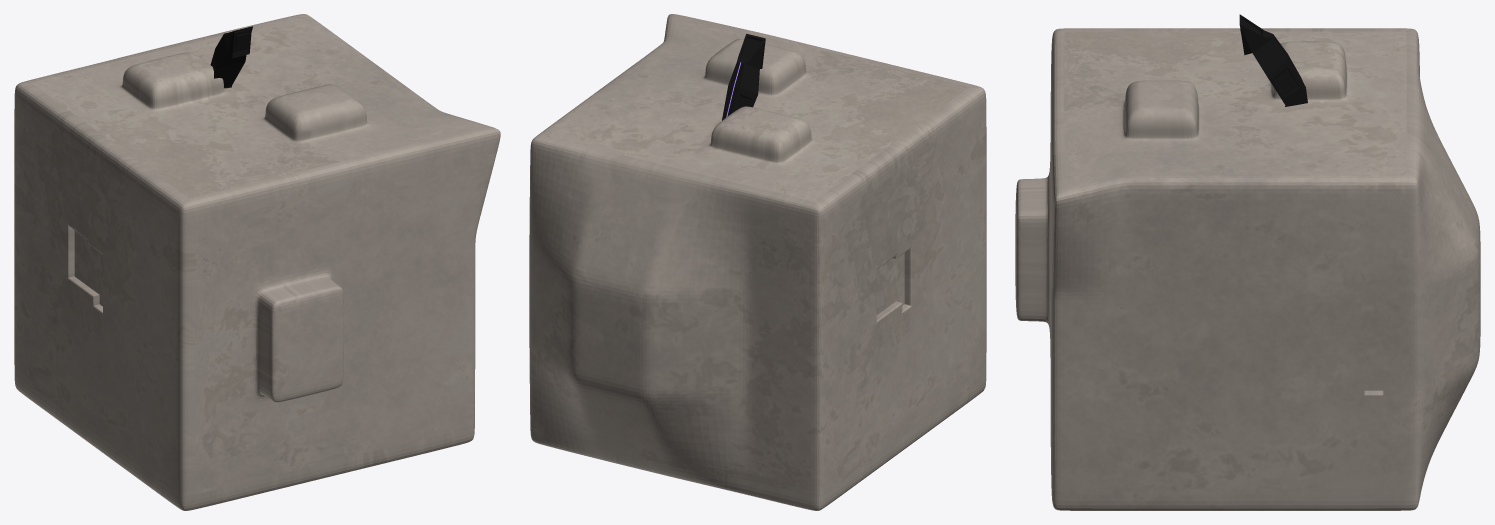
The model's file is RandomShape2.fbx.
3 renders of one model, left to right at view 1: azimuth 30°, elevation 25°; view 2: azimuth 150°, elevation 25°; view 3: azimuth 270°, elevation 25°, orthographic. The views are drawn at different scales.
Visible parts, largest first — view 1: Cube, Kostka; view 2: Cube, Kostka; view 3: Cube, Kostka.
Boxes of the visible parts, left/top/right/bottom form: Cube: left=14, top=14, right=500, bottom=510; Kostka: left=210, top=26, right=252, bottom=88; Cube: left=529, top=14, right=986, bottom=510; Kostka: left=722, top=33, right=765, bottom=120; Cube: left=1015, top=28, right=1480, bottom=510; Kostka: left=1239, top=14, right=1307, bottom=106.
Size of the model in its own units: 70.22 by 80.89 by 81.62.
6 materials, 1 textured.
